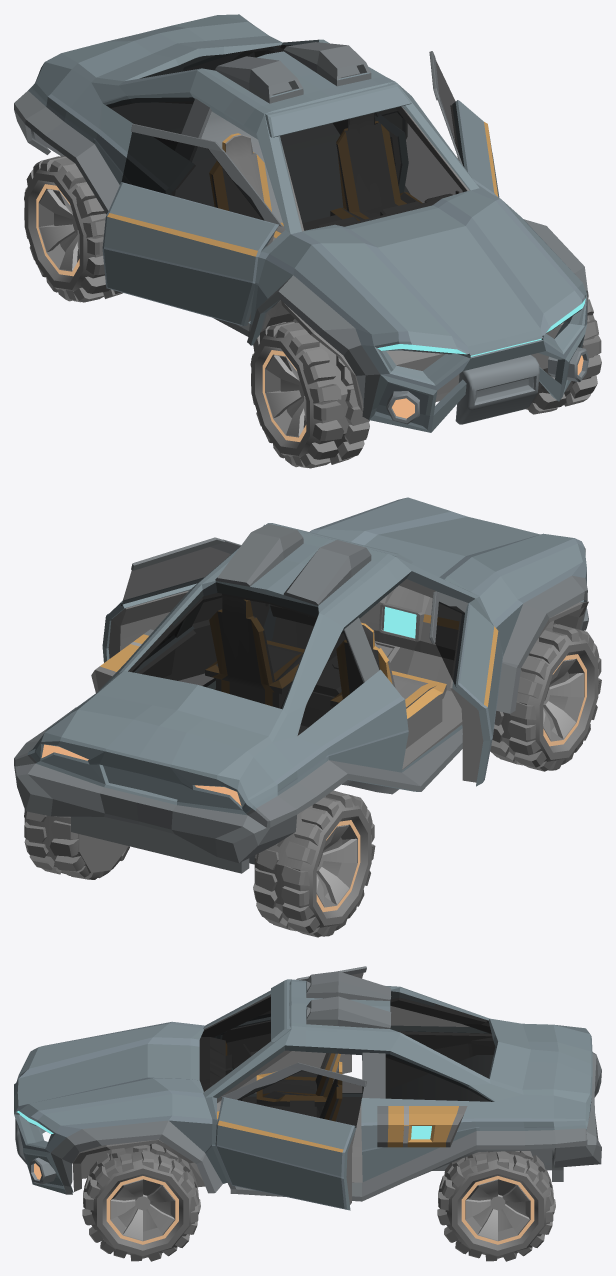
The model's file is cyberpunk-car.glb.
The picture shows the model from 3 angles, top to bottom: view 1: azimuth 30°, elevation 25°; view 2: azimuth 150°, elevation 25°; view 3: azimuth 270°, elevation 25°; orthographic projection. The views are drawn at different scales.
Size of the model in its own units: 4.3 by 2.98 by 7.18.
